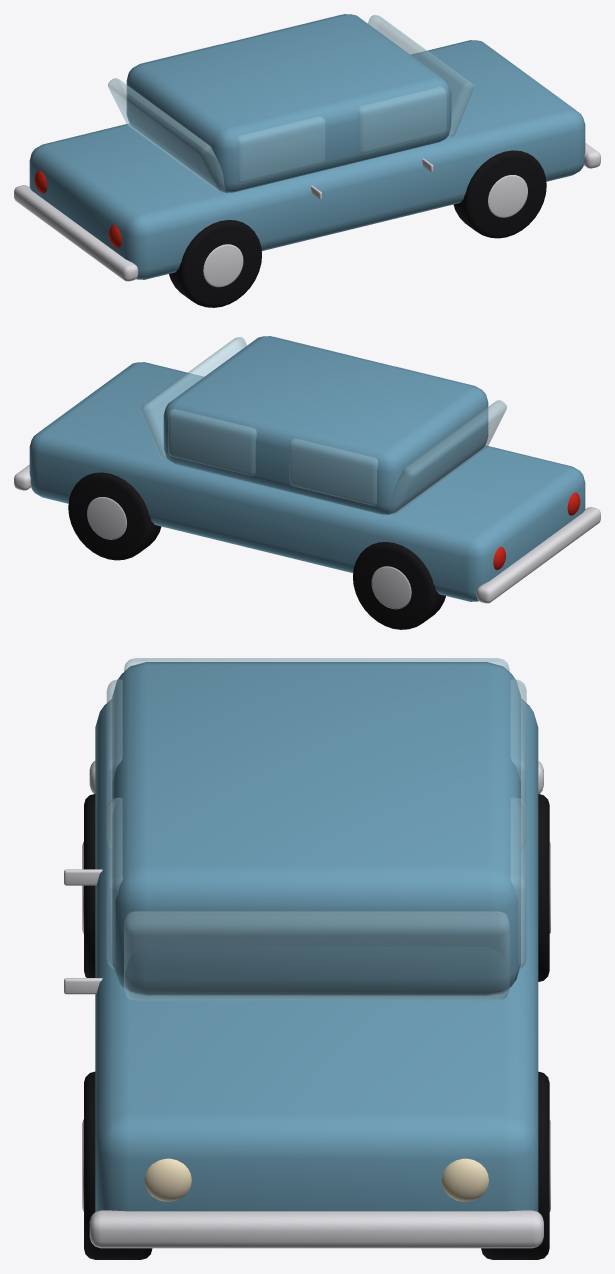
Rendered from car.glb.
3 renders of one model, top to bottom at view 1: azimuth 30°, elevation 25°; view 2: azimuth 150°, elevation 25°; view 3: azimuth 270°, elevation 25°, orthographic. The views are drawn at different scales.
Parts seen in each view (by area): view 1: car; view 2: car; view 3: car.
Boxes of the visible parts, x1,y1,x2,y2 form: car: [14, 14, 600, 307]; car: [14, 336, 600, 629]; car: [64, 658, 550, 1259].
Size of the model in its own units: 3.86 by 1.27 by 1.71.
